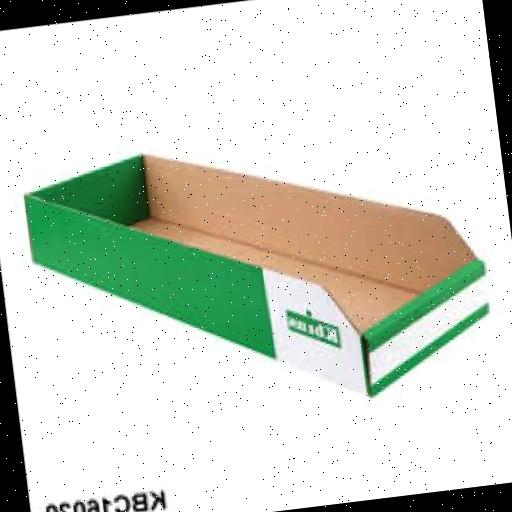cardboard: (22, 112, 499, 433)
